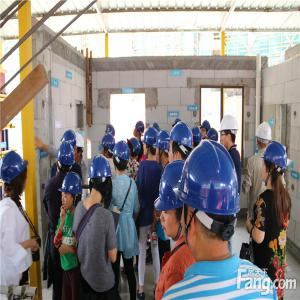blue: (182, 140, 242, 263), (157, 160, 192, 240), (2, 148, 30, 200), (261, 143, 289, 187), (89, 156, 113, 206), (168, 122, 194, 164), (59, 171, 84, 212), (156, 129, 172, 166), (113, 142, 131, 174), (57, 142, 75, 172), (143, 127, 158, 157), (127, 137, 142, 162), (100, 135, 116, 158), (133, 122, 145, 141), (202, 121, 212, 139)
white: (220, 114, 241, 150), (256, 121, 273, 152)
